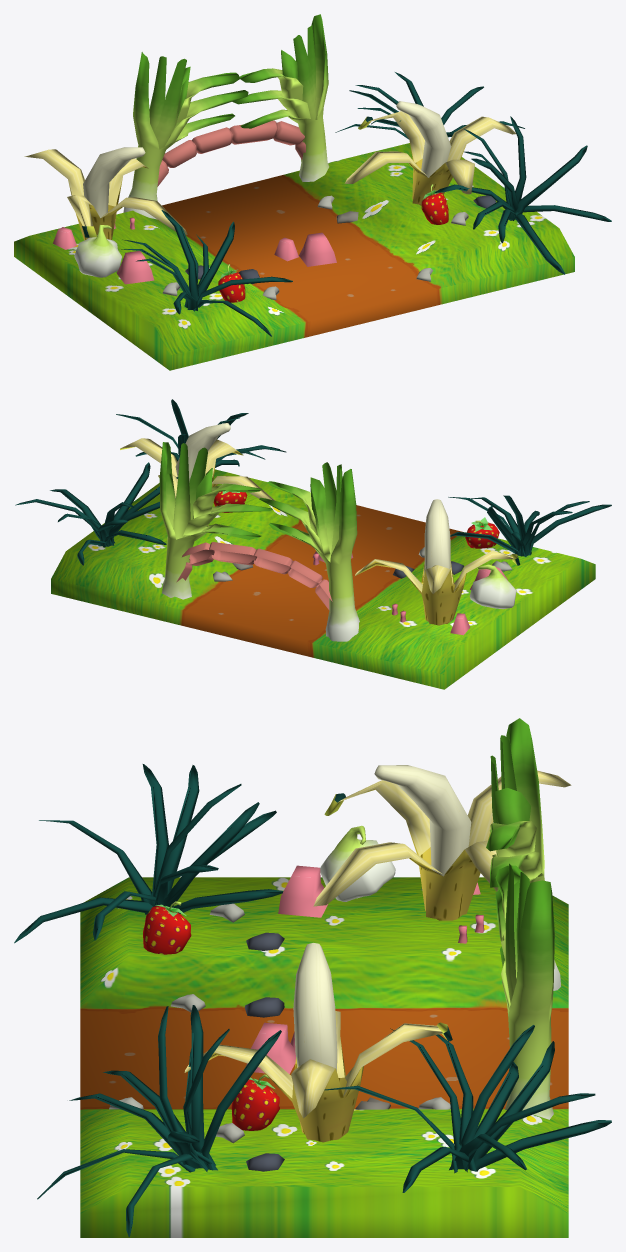
The model's file is D_block_07.FBX.
3 renders of one model, top to bottom at view 1: azimuth 30°, elevation 25°; view 2: azimuth 150°, elevation 25°; view 3: azimuth 270°, elevation 25°, orthographic. The views are drawn at different scales.
Parts seen in each view (by area): view 1: sol; view 2: sol; view 3: sol.
Part boxes in pixels (<box>): sol: <box>14,14,611,370</box>; sol: <box>15,399,611,689</box>; sol: <box>14,718,611,1237</box>.
Size of the model in its own units: 1051 by 401 by 734.
